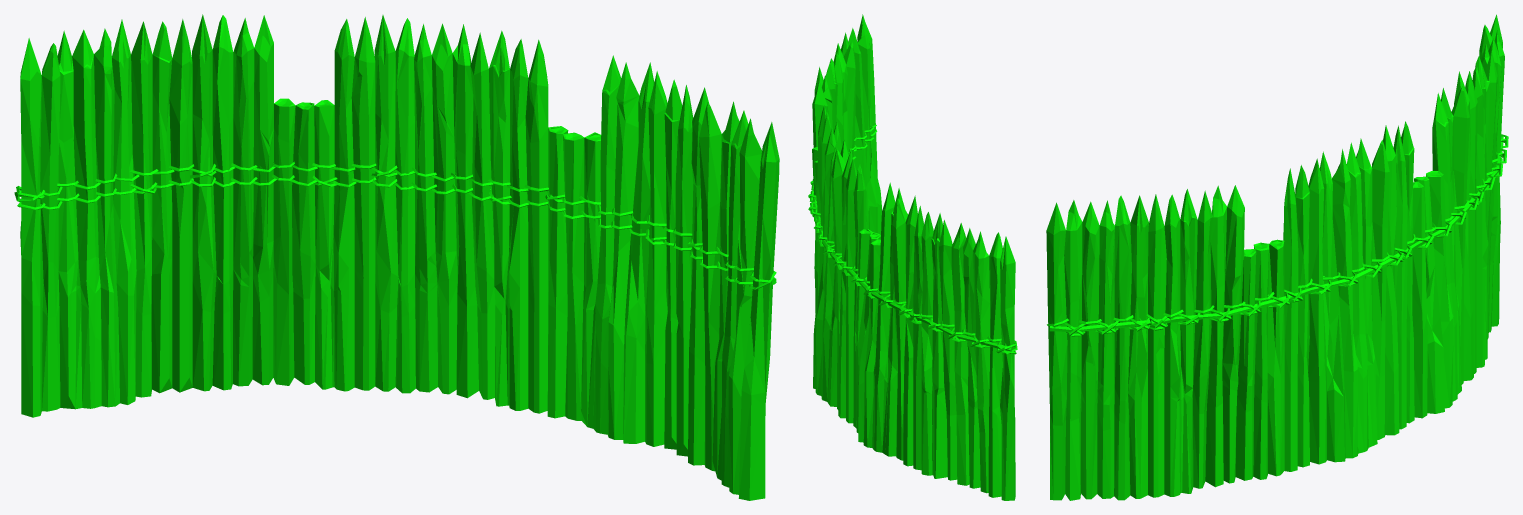
The model's file is SM_Palisade_Corner_Round_9x9_Window_Concave_A.fbx.
The picture shows the model from 3 angles, left to right: view 1: azimuth 30°, elevation 25°; view 2: azimuth 150°, elevation 25°; view 3: azimuth 270°, elevation 25°; orthographic projection. The views are drawn at different scales.
Visible parts, largest first — view 1: palisade-corner-round-9x9-window-concave-a; view 2: palisade-corner-round-9x9-window-concave-a; view 3: palisade-corner-round-9x9-window-concave-a.
Boxes of the visible parts, x1,y1,x2,y2 form: palisade-corner-round-9x9-window-concave-a: (14, 14, 779, 500); palisade-corner-round-9x9-window-concave-a: (808, 14, 1017, 500); palisade-corner-round-9x9-window-concave-a: (1046, 14, 1508, 500).
Bounding box in the file's own units: 9.44 × 6.85 × 9.39.
